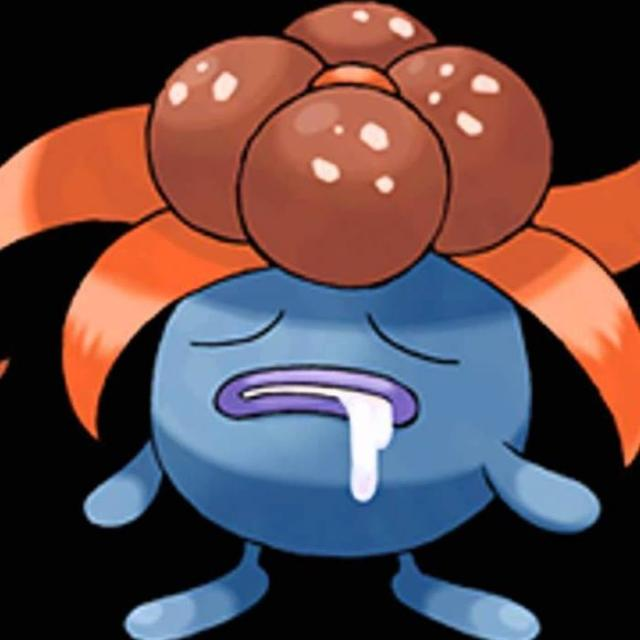Gloom: (121, 4, 560, 612)
